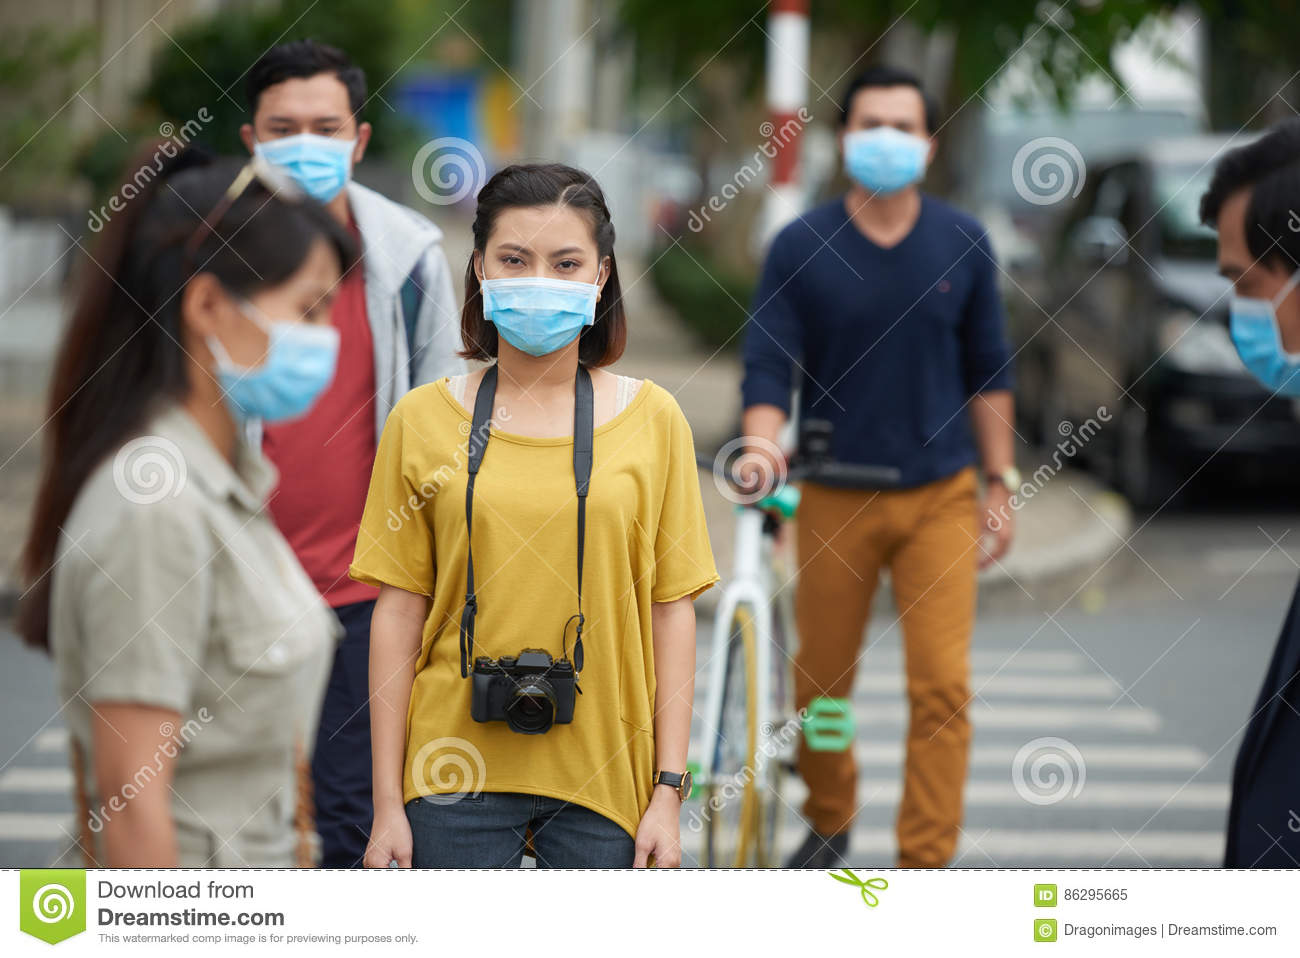mask: (484, 276, 594, 356)
